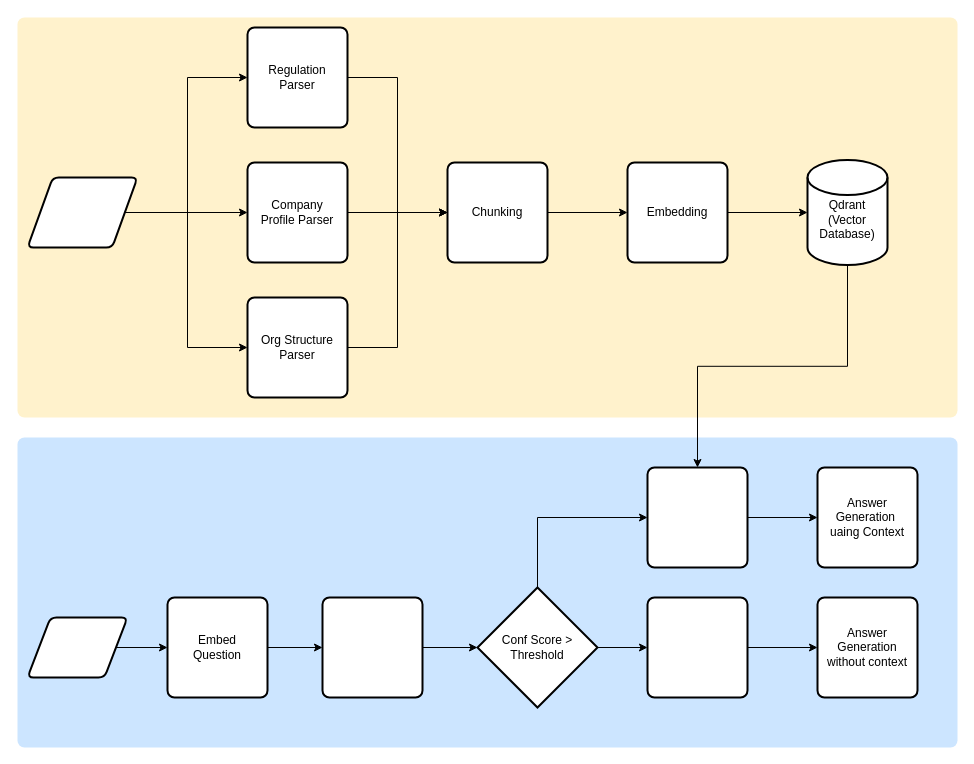
Image size: 974x764. Some labels were removed from this diagram. The shapes that lost their labels are listed below. From the top down, each one's box as (x1, y1, x2, y2) in pixels, then its label:
(26, 176, 138, 248): Company Documents Input
(646, 466, 748, 568): Retrieve Context
(26, 616, 128, 678): User Question
(321, 596, 423, 698): Random Forest Classifier
(646, 596, 748, 698): Skip Retrieval LLM Knowledge
